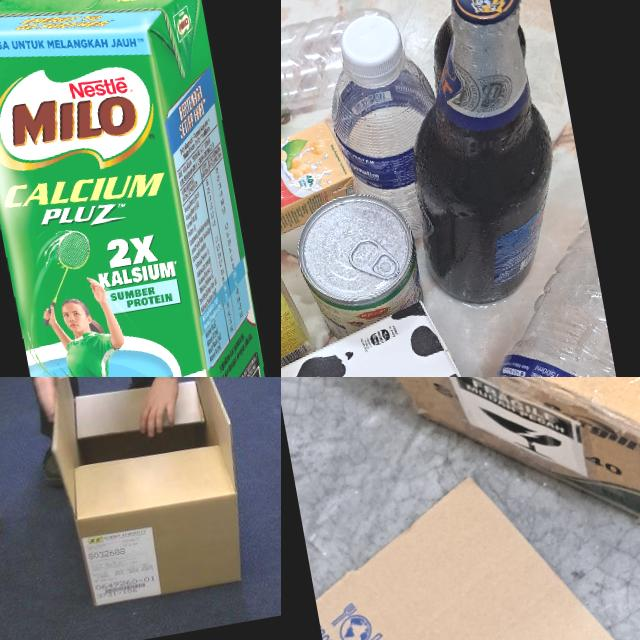aba de lata: (345, 232, 400, 285)
caixinha: (0, 0, 281, 377), (281, 117, 363, 256), (281, 203, 316, 377)
garrafa de vidro: (377, 0, 577, 311), (410, 0, 532, 84)
garrafa plástica: (370, 188, 640, 377), (325, 48, 461, 248), (281, 4, 404, 137)
lata: (286, 185, 428, 344)
papelão: (298, 445, 640, 640), (326, 377, 640, 573), (32, 377, 258, 610)
tampa plástica: (337, 11, 407, 82)
